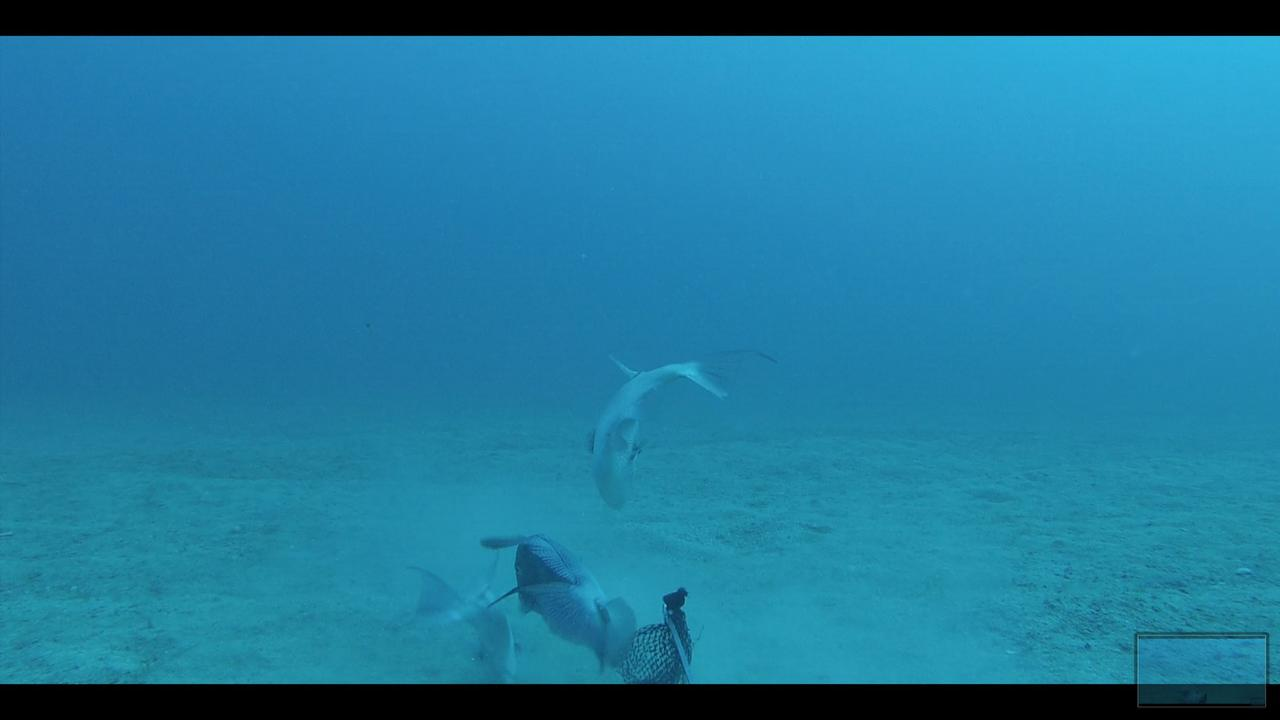balistes: (579, 338, 778, 512), (476, 516, 636, 678), (402, 548, 523, 680)
